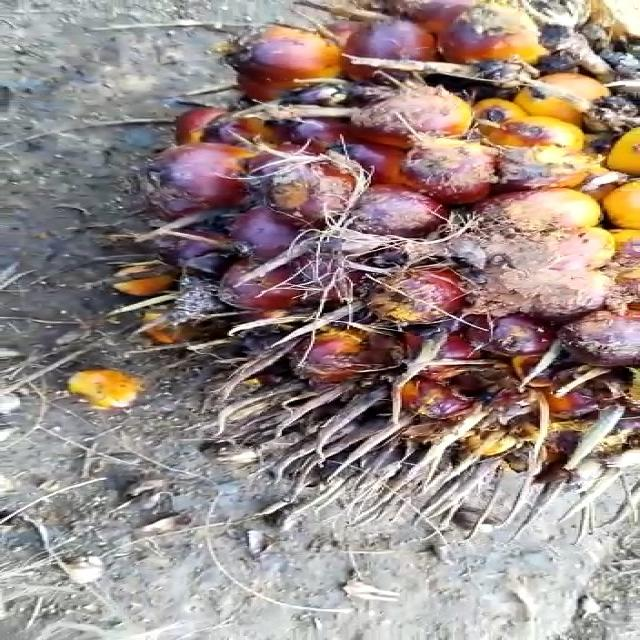palm oil: (121, 0, 640, 495)
